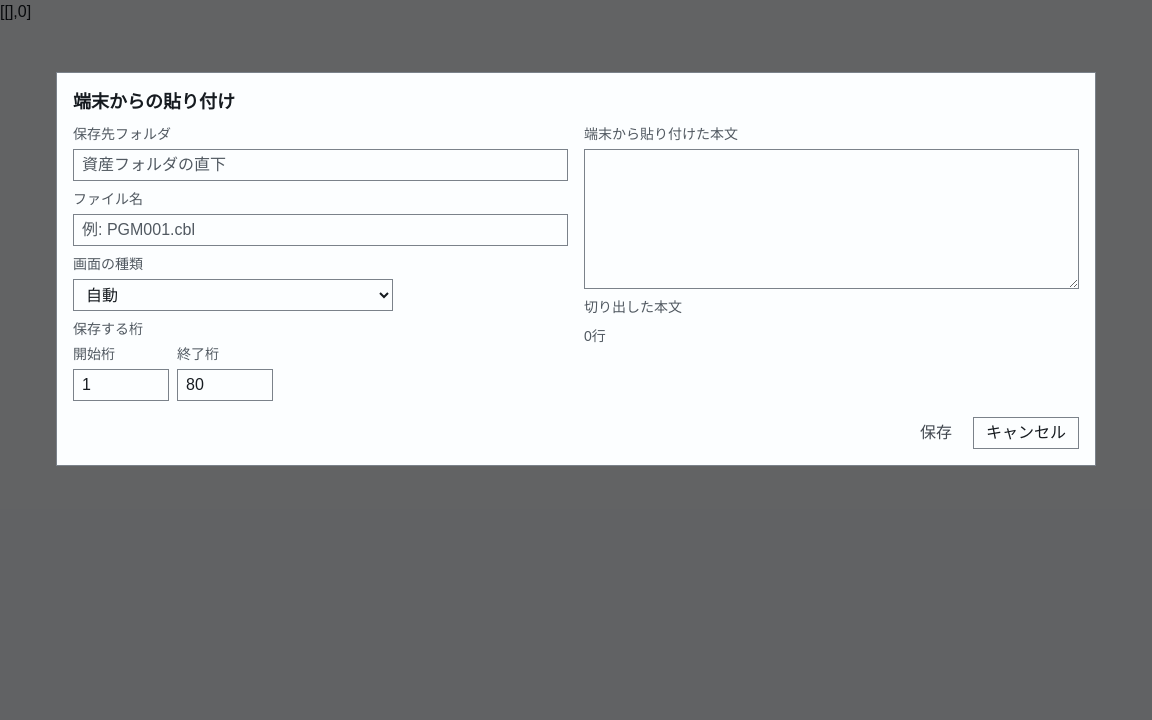
Scenario: ImportDialog › a rejected import › shows its message in the strip
In the text box with test id "import-paste": x=832, y=219 [584, 149, 1079, 289], type "       IDENTIFICATION DIVISION."
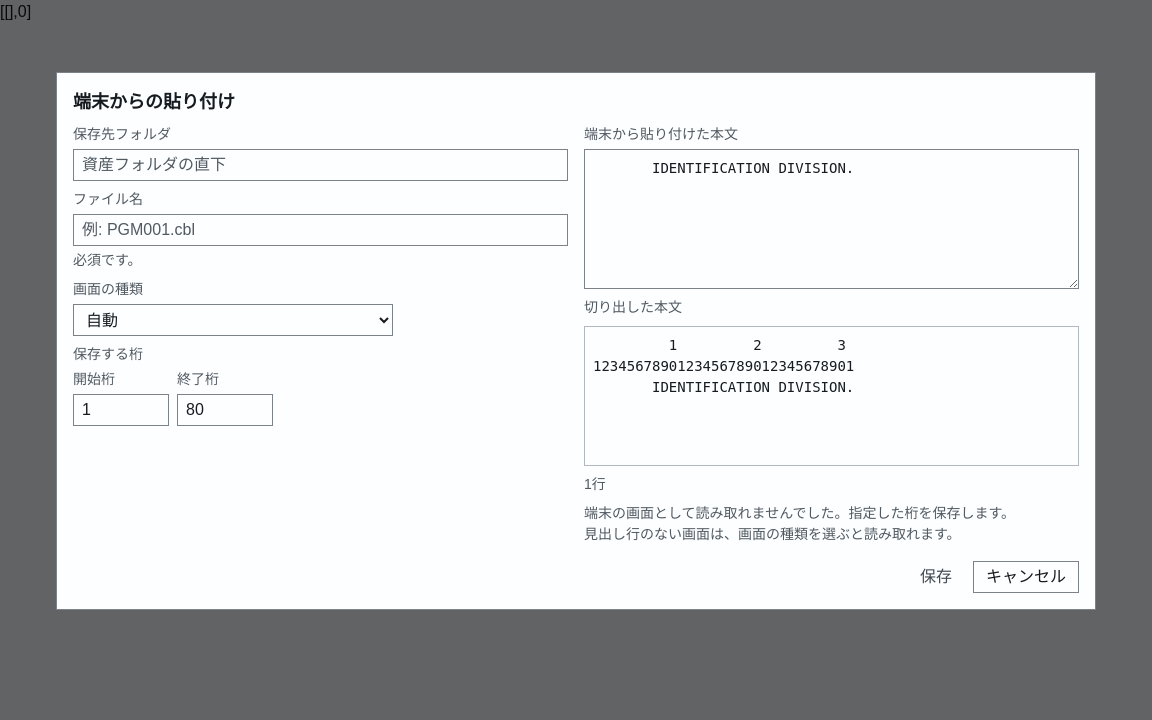
In the field with test id "import-filename": x=320, y=230 [73, 214, 568, 246], type "A.cbl"
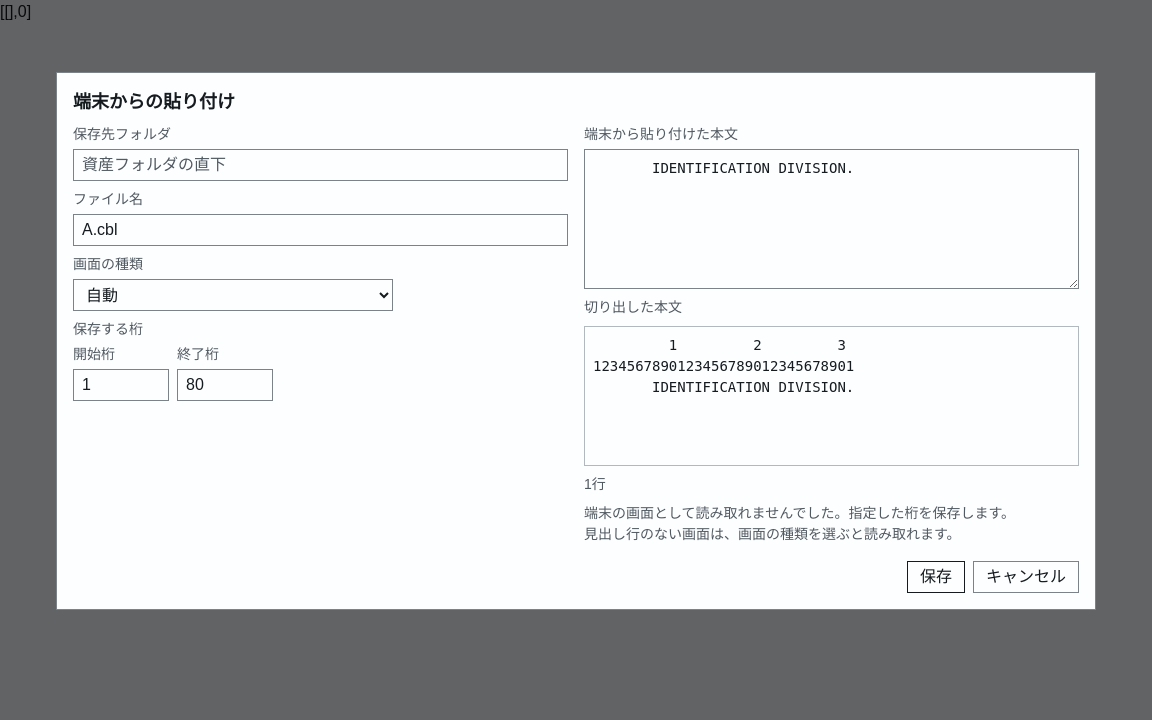
Click the button with test id "import-save": x=936, y=577 [907, 561, 965, 593]
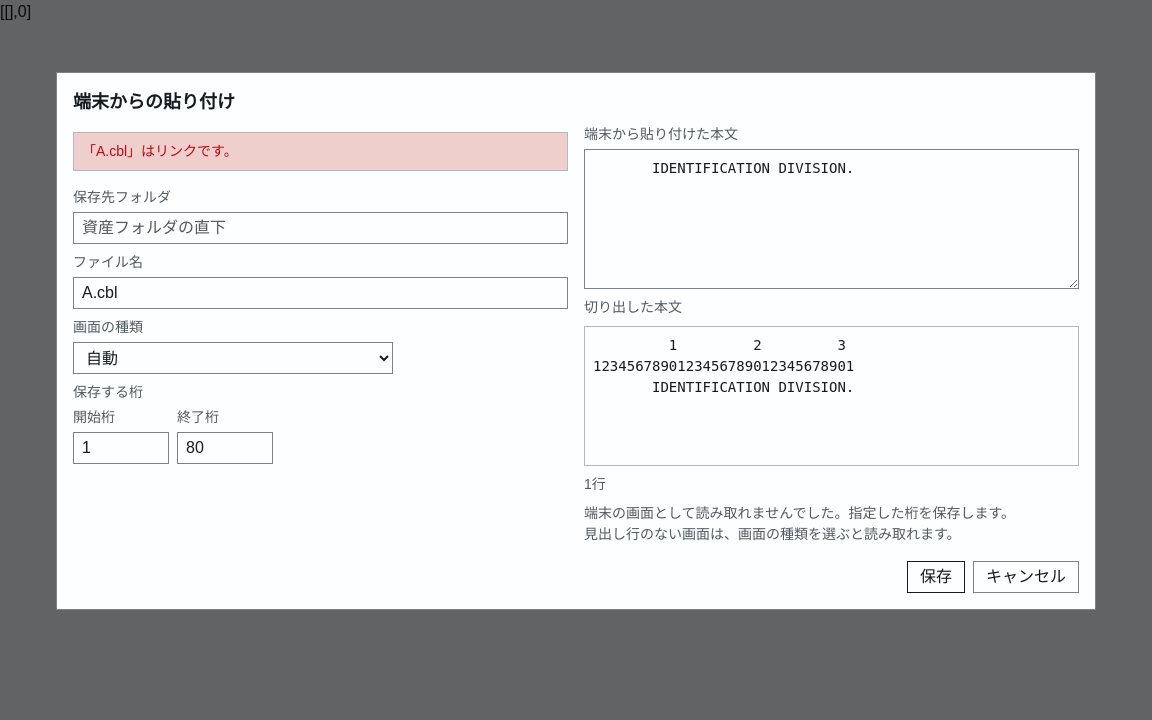
Check: the button with test id "import-save" is enabled, box [907, 561, 965, 593]
Check: the message reads "「A.cbl」はリンクです。", box [82, 143, 238, 159]
